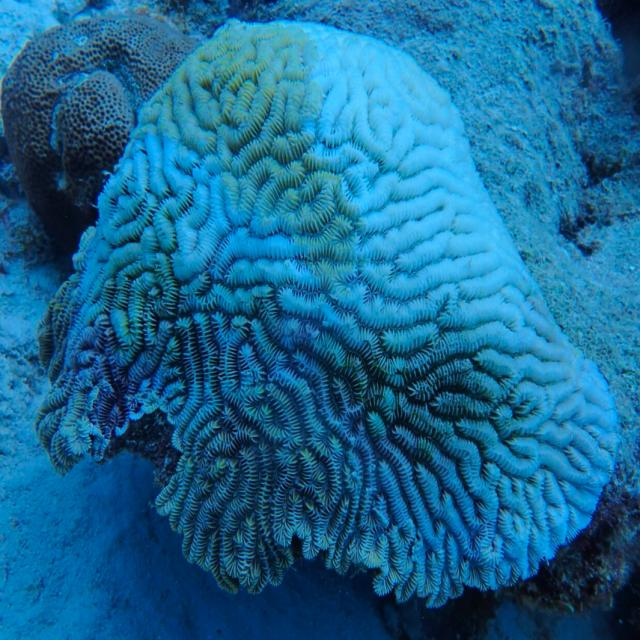Coral: (36, 16, 620, 610), (0, 15, 203, 255)
